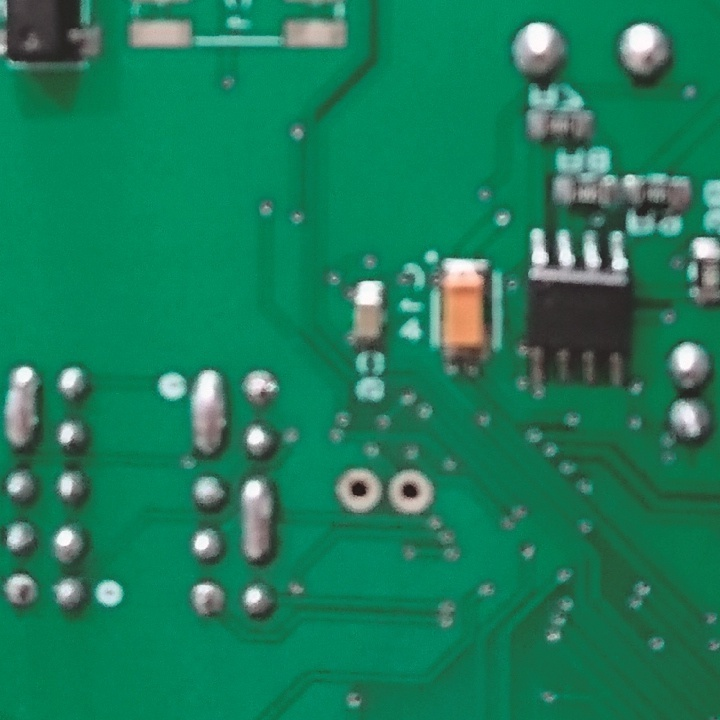F: (333, 463, 387, 514), (383, 464, 433, 515), (1, 571, 44, 612), (188, 577, 228, 620), (244, 369, 283, 409)
P: (2, 361, 43, 452), (190, 365, 229, 460), (241, 472, 273, 560)
